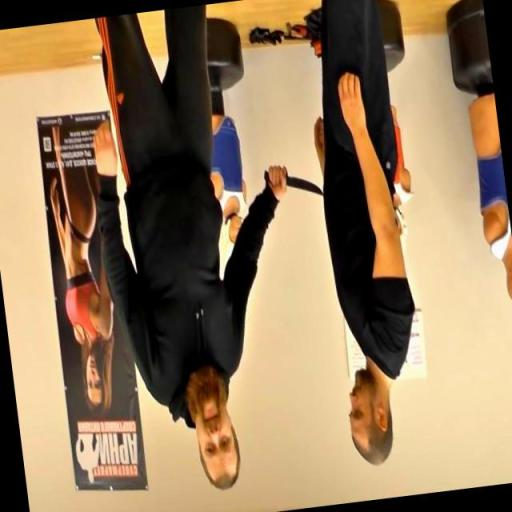knife: (260, 156, 324, 209)
